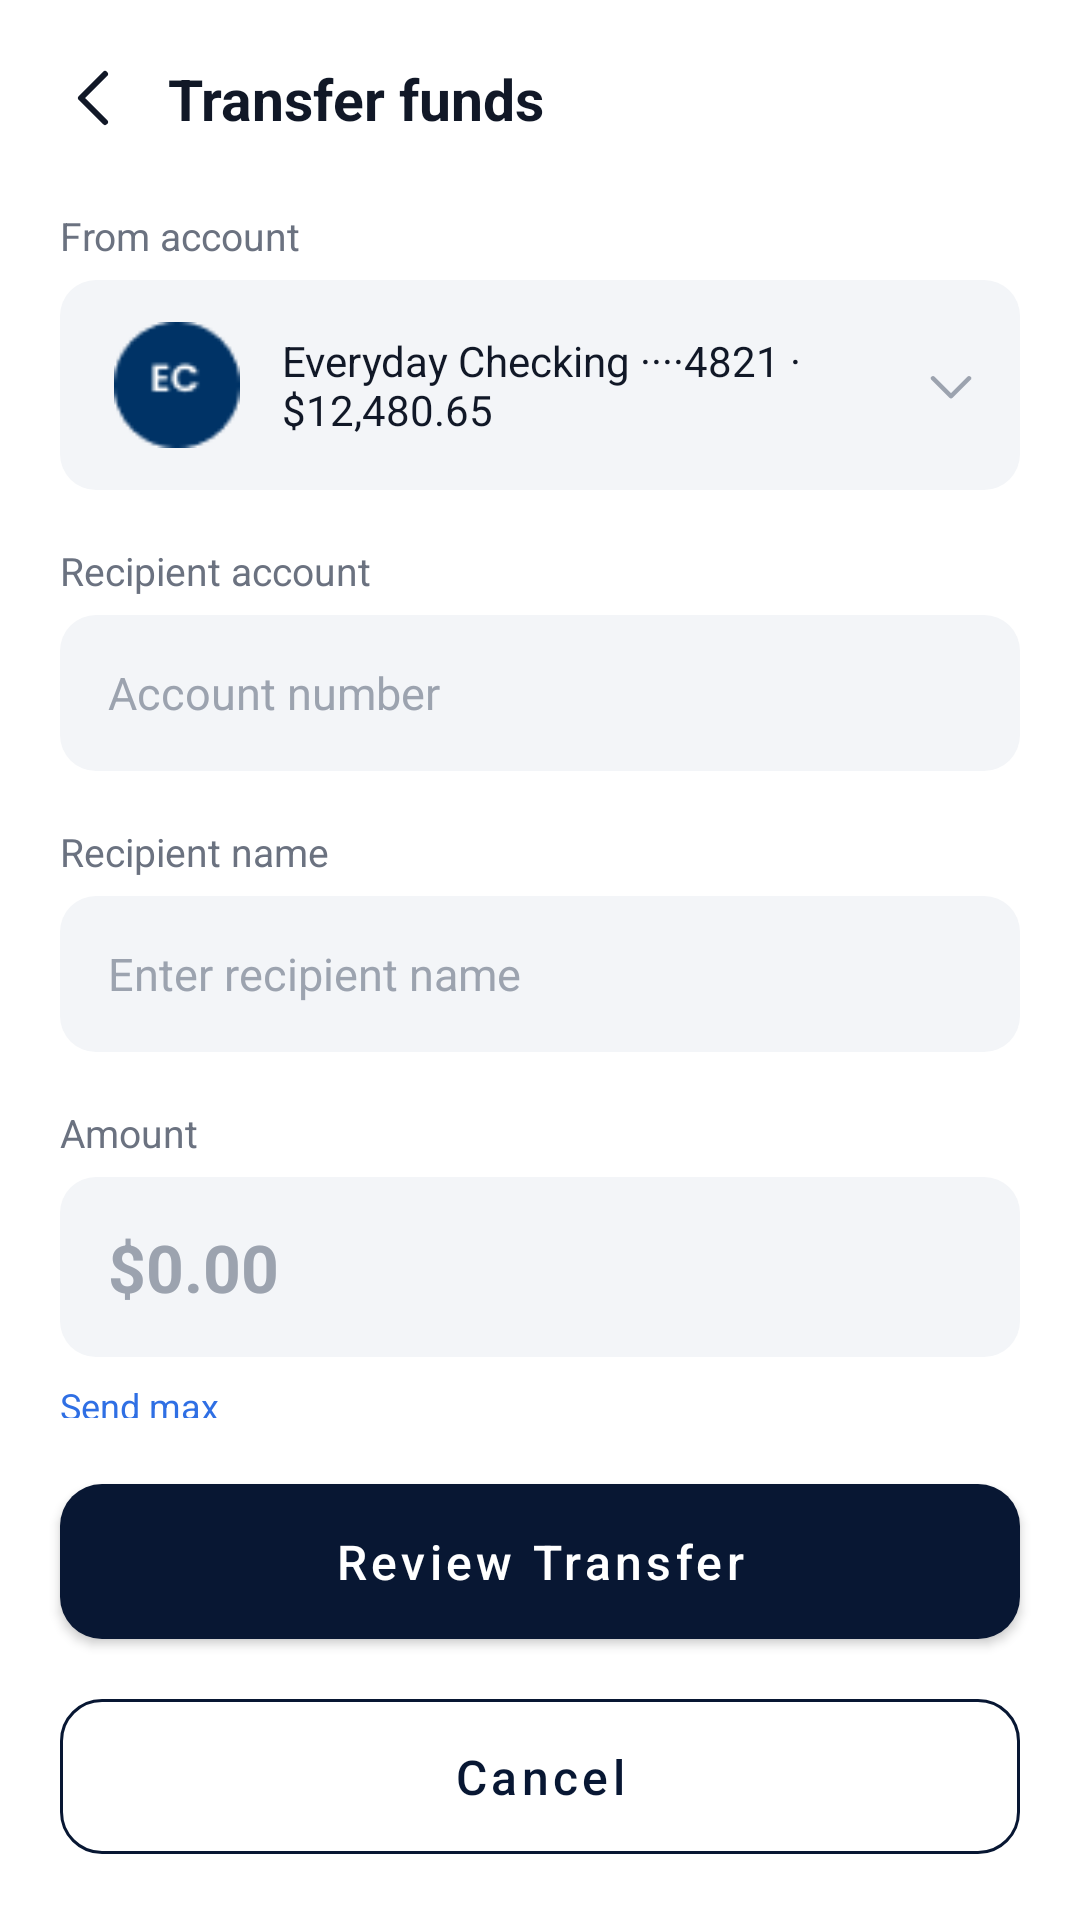

Named icons in this screenshot (1080px x 1920px) and their bounding boxes, (x1, y1, x2, y2):
Back: (78, 70, 108, 125)
